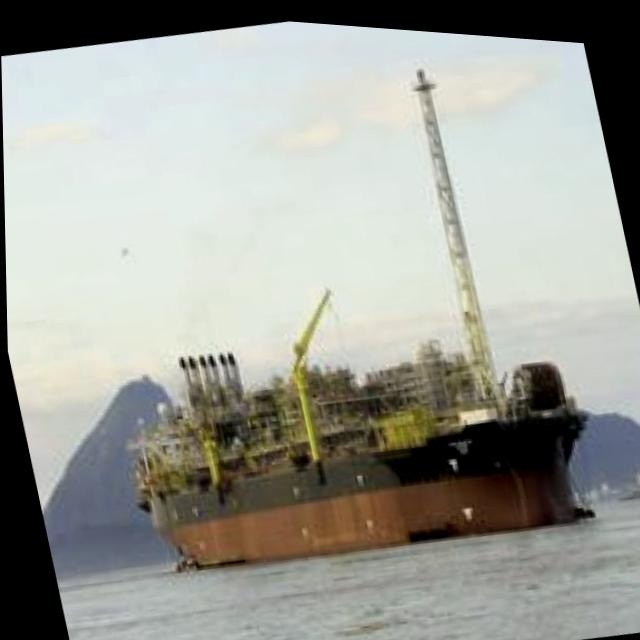ship2: (128, 64, 595, 571)
